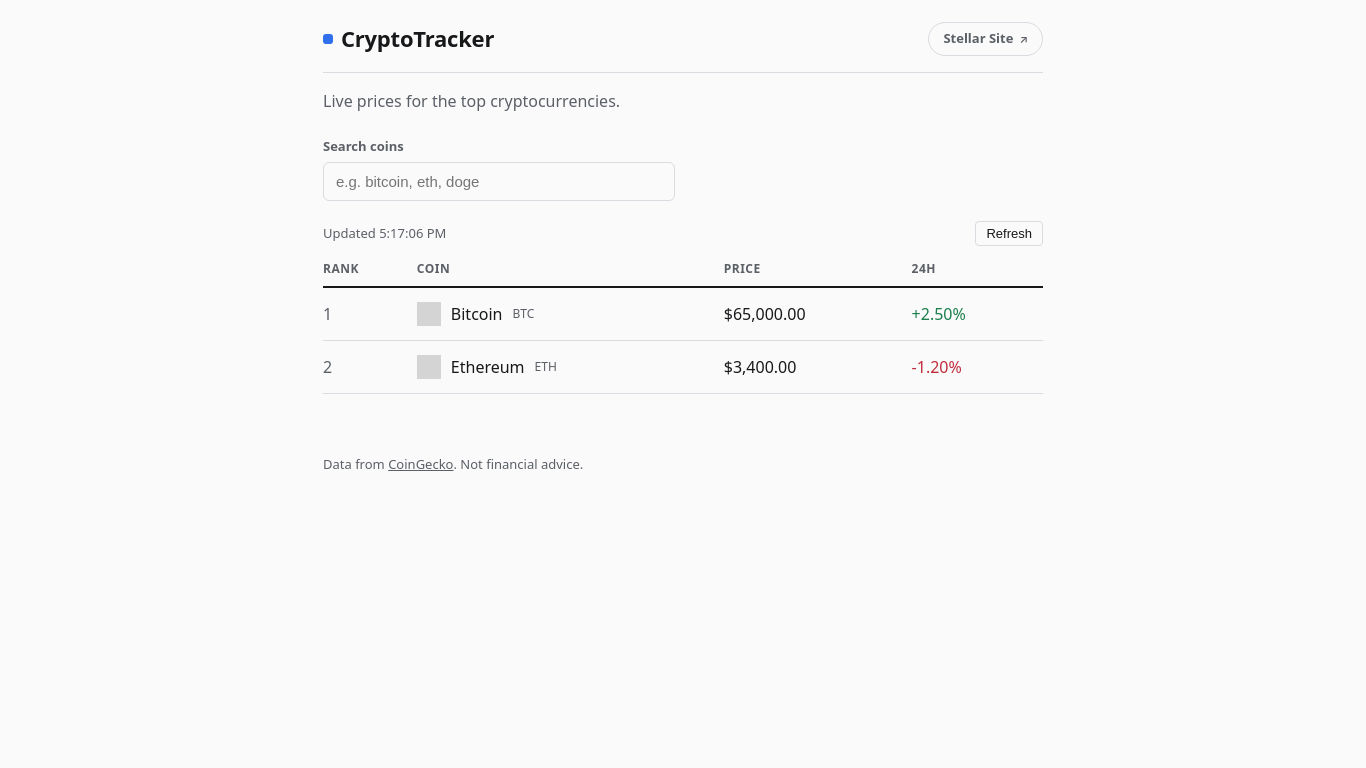
Test: CoinDetailModal › shows the real failure shape when the chart request fails, with a retry
The image size is (1366, 768).
Expected: the table is shown, x1=323 y1=260 x2=1043 y2=394
Click the button "Bitcoin BTC" at (477, 314), box x1=417 y1=298 x2=714 y2=330
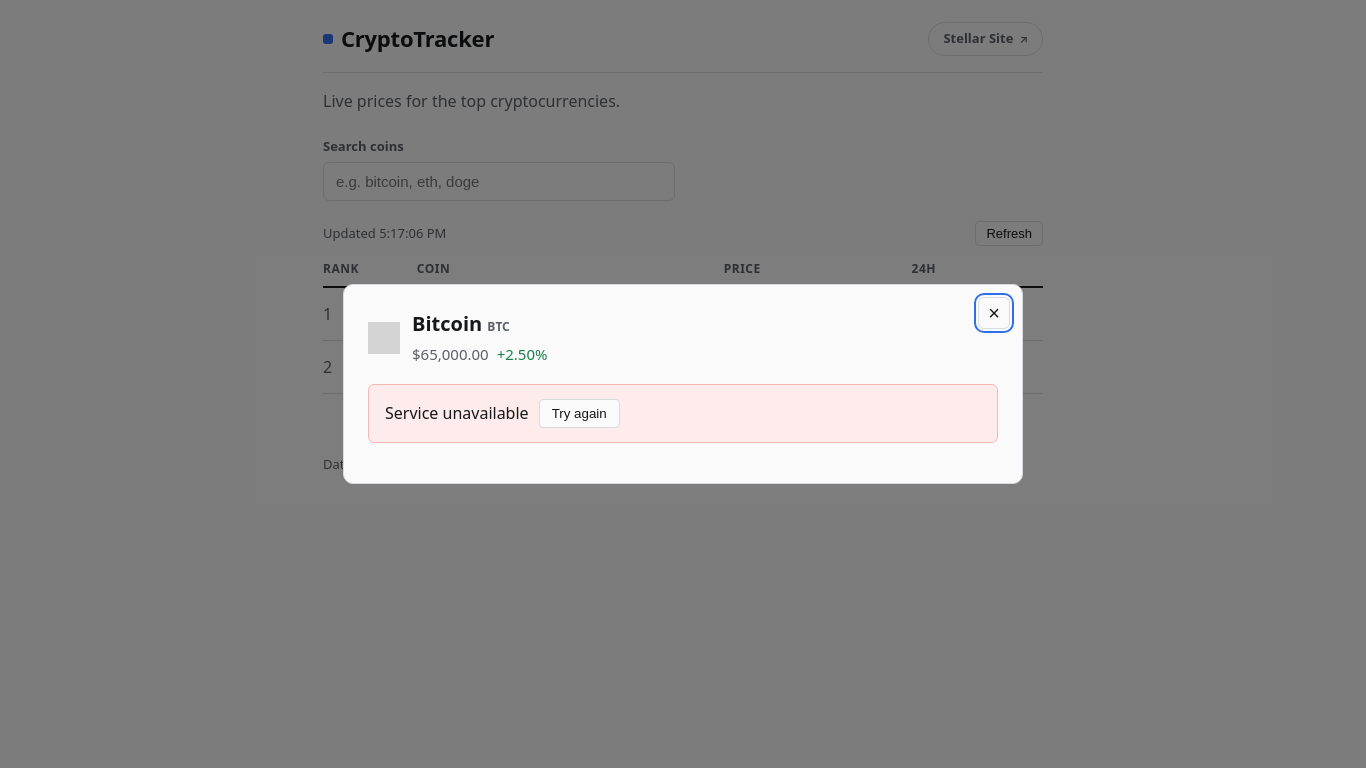
Expected: the message shows "Service unavailable", x1=385 y1=402 x2=529 y2=424
Expected: the button "Try again" is shown, x1=539 y1=399 x2=620 y2=428
